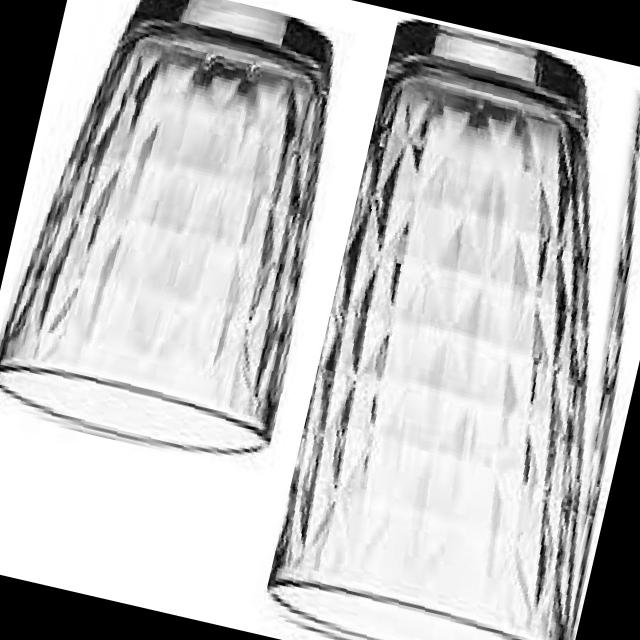Glass: (257, 13, 640, 640), (0, 0, 364, 476)
